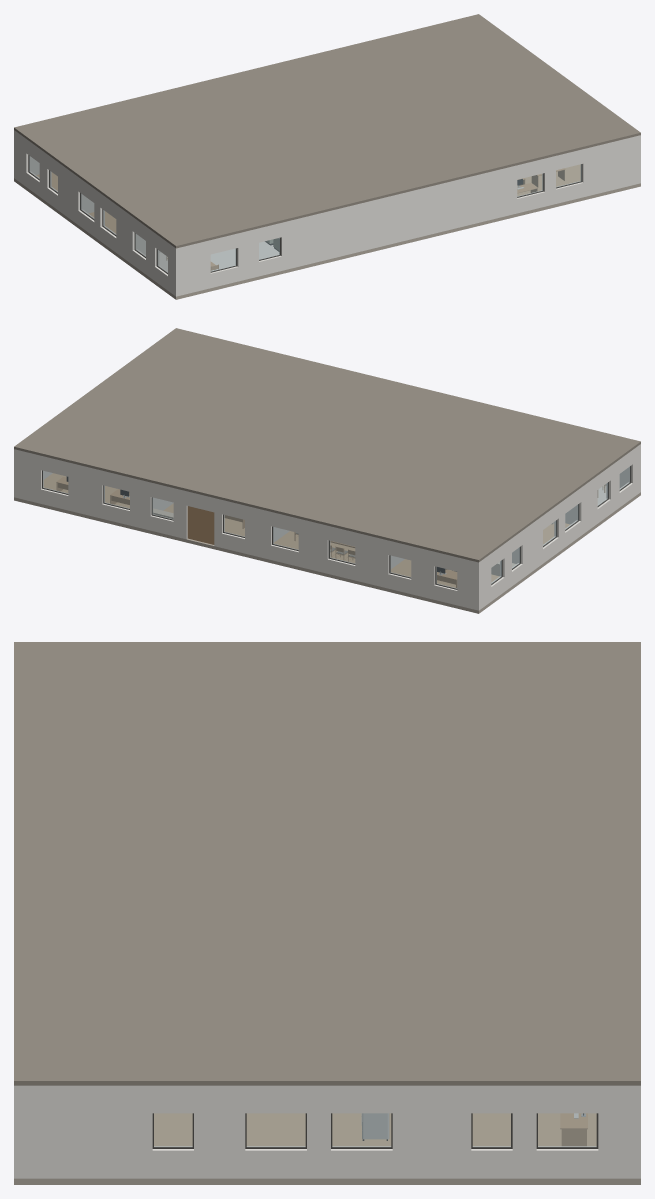
The model's file is plan.glb.
The picture shows the model from 3 angles, top to bottom: view 1: azimuth 30°, elevation 25°; view 2: azimuth 150°, elevation 25°; view 3: azimuth 270°, elevation 25°; orthographic projection. The views are drawn at different scales.
Parts seen in each view (by area): view 1: roof:roof, wall:shell, slab:slab, floor:r_kitchen, floor:r_annex, window:window_22:glass, window:window_23:glass, window:window_20:glass; view 2: roof:roof, wall:shell, slab:slab, door:d_entry, floor:r_conf, window:window_4:glass, window:window_7:glass, window:window_3:glass, window:window_8:glass, floor:r_acct; view 3: roof:roof, wall:shell, slab:slab, floor:r_bullpen, floor:r_acct, window:window_15:glass, window:window_17:glass, window:window_18:glass, window:window_19:glass, floor:r_annex, window:window_16:glass, furniture:f_oscar (+1 smaller).
Part boxes in pixels (<box>): roof:roof: <box>14,14,640,248</box>; wall:shell: <box>14,130,640,296</box>; slab:slab: <box>14,178,640,299</box>; floor:r_kitchen: <box>159,241,279,271</box>; floor:r_annex: <box>517,164,580,195</box>; window:window_22:glass: <box>517,174,542,196</box>; window:window_23:glass: <box>556,164,581,187</box>; window:window_20:glass: <box>211,248,235,271</box>; roof:roof: <box>14,328,640,562</box>; wall:shell: <box>14,444,640,610</box>; slab:slab: <box>14,492,640,613</box>; door:d_entry: <box>187,506,214,544</box>; floor:r_conf: <box>274,531,355,563</box>; window:window_4:glass: <box>273,527,298,549</box>; window:window_7:glass: <box>104,486,129,508</box>; window:window_3:glass: <box>330,541,354,563</box>; window:window_8:glass: <box>43,471,67,493</box>; floor:r_acct: <box>43,473,129,508</box>; roof:roof: <box>14,642,640,1085</box>; wall:shell: <box>14,1085,640,1178</box>; slab:slab: <box>14,1178,640,1184</box>; floor:r_bullpen: <box>246,1113,391,1146</box>; floor:r_acct: <box>472,1113,596,1146</box>; window:window_15:glass: <box>538,1113,596,1146</box>; window:window_17:glass: <box>332,1113,390,1146</box>; window:window_18:glass: <box>247,1113,305,1146</box>; window:window_19:glass: <box>154,1113,192,1146</box>; floor:r_annex: <box>154,1113,192,1146</box>; window:window_16:glass: <box>473,1113,510,1146</box>; furniture:f_oscar: <box>560,1113,587,1146</box>.
Size of the model in its own units: 30.3 by 3.35 by 18.3.
